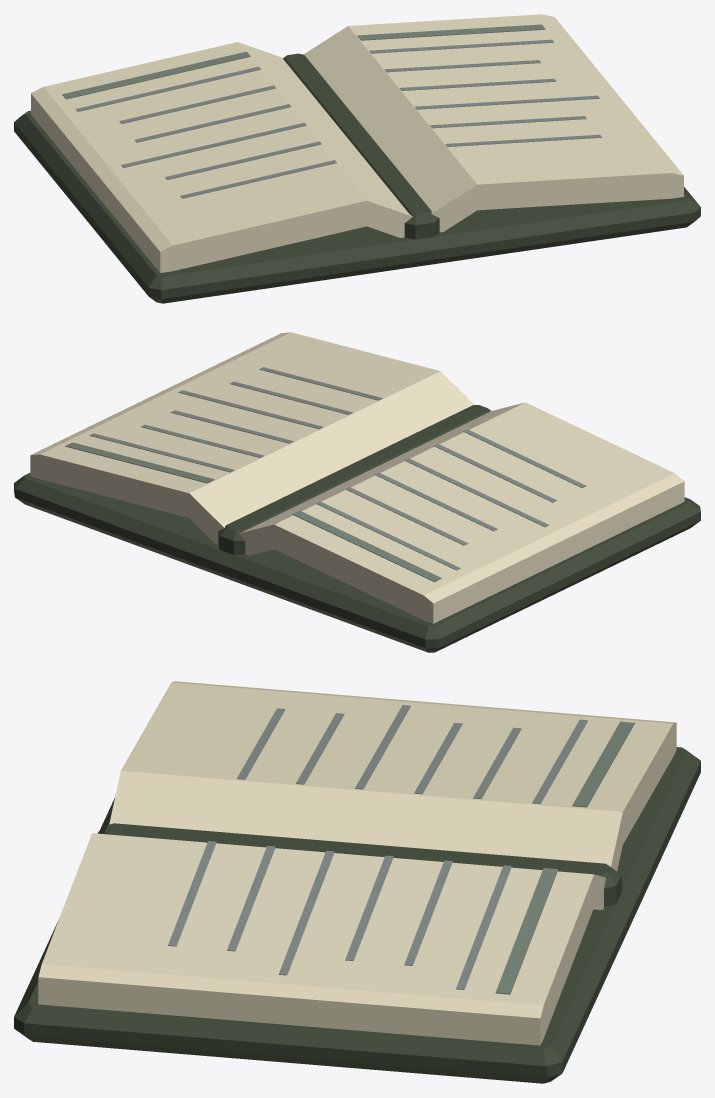
The model's file is WaterworksVisitorRegister.fbx.
The picture shows the model from 3 angles, top to bottom: view 1: azimuth 30°, elevation 25°; view 2: azimuth 150°, elevation 25°; view 3: azimuth 270°, elevation 25°; orthographic projection. The views are drawn at different scales.
Parts seen in each view (by area): view 1: WaterworksVisitorRegister; view 2: WaterworksVisitorRegister; view 3: WaterworksVisitorRegister.
Boxes of the visible parts, box(x1,y1,x2,y2) form: WaterworksVisitorRegister: box(14, 14, 700, 303); WaterworksVisitorRegister: box(14, 332, 700, 652); WaterworksVisitorRegister: box(14, 681, 700, 1083).
Size of the model in its own units: 0.3909 by 0.0472 by 0.3197.
